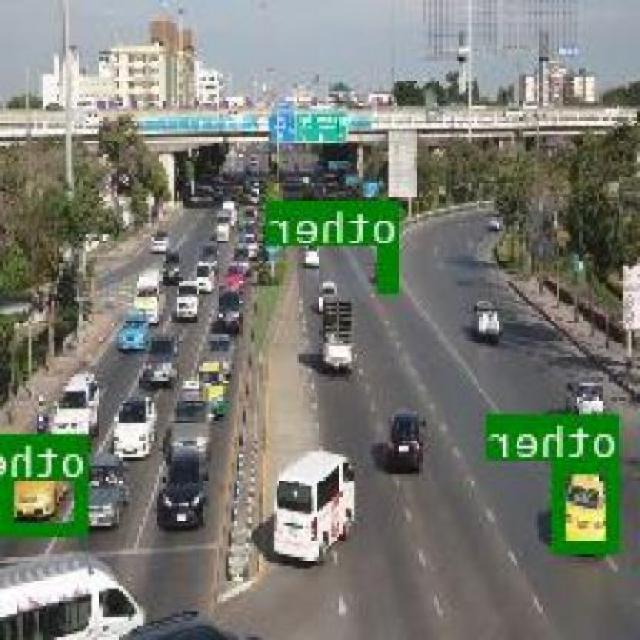other: (6, 433, 91, 532), (556, 459, 622, 550), (380, 244, 400, 290)
